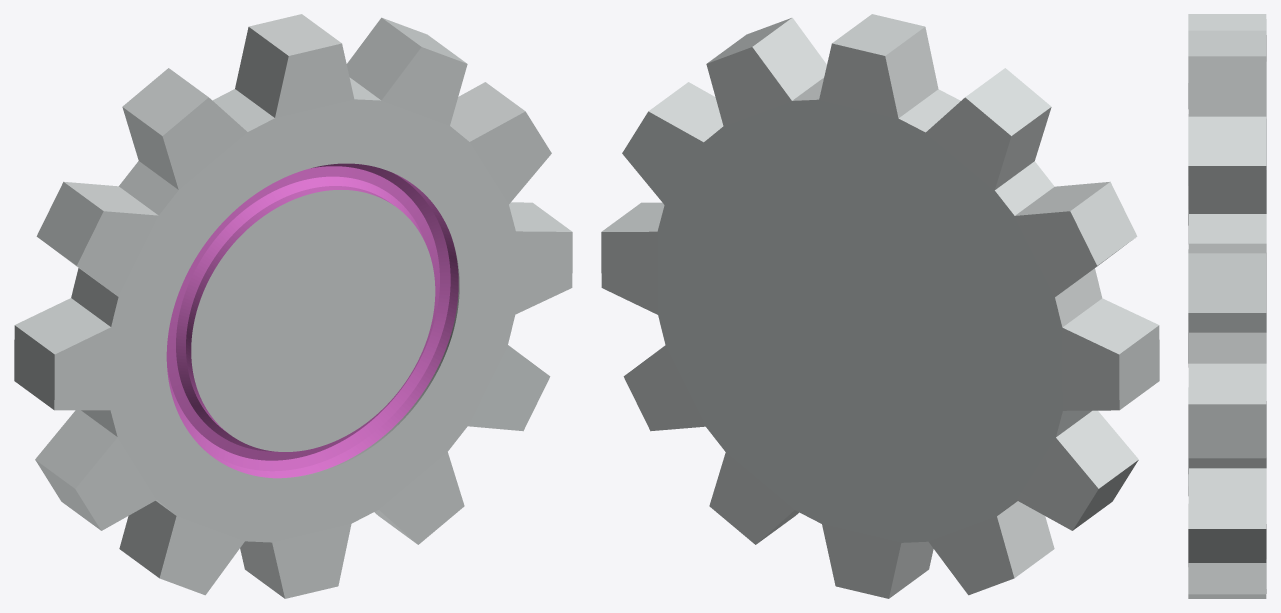
Rendered from pink-gear.gltf.
The picture shows the model from 3 angles, left to right: view 1: azimuth 30°, elevation 25°; view 2: azimuth 150°, elevation 25°; view 3: azimuth 270°, elevation 25°; orthographic projection. The views are drawn at different scales.
Visible parts, largest first — view 1: Cylinder.001; view 2: Cylinder.001; view 3: Cylinder.001.
Part boxes in pixels (x1,y1,x2,y2): Cylinder.001: (14, 14, 572, 598); Cylinder.001: (601, 14, 1159, 598); Cylinder.001: (1188, 14, 1266, 598).
Bounding box in the file's own units: 1.95 × 1.95 × 0.2627.
